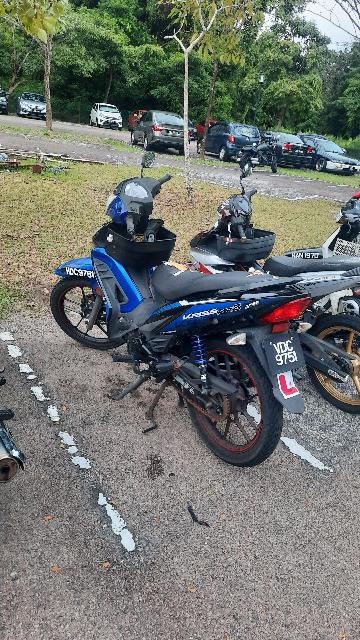License_Plate: (262, 331, 313, 376)
motorcycle: (53, 152, 314, 468), (184, 143, 360, 418)
